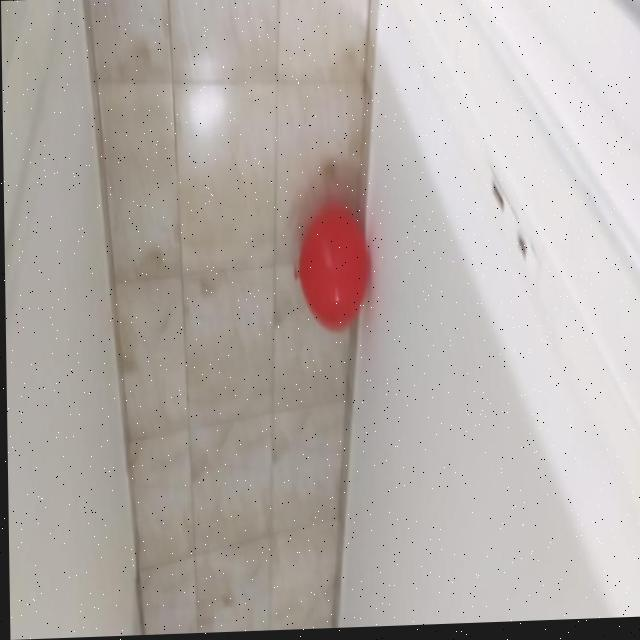balloon: (281, 199, 377, 350)
